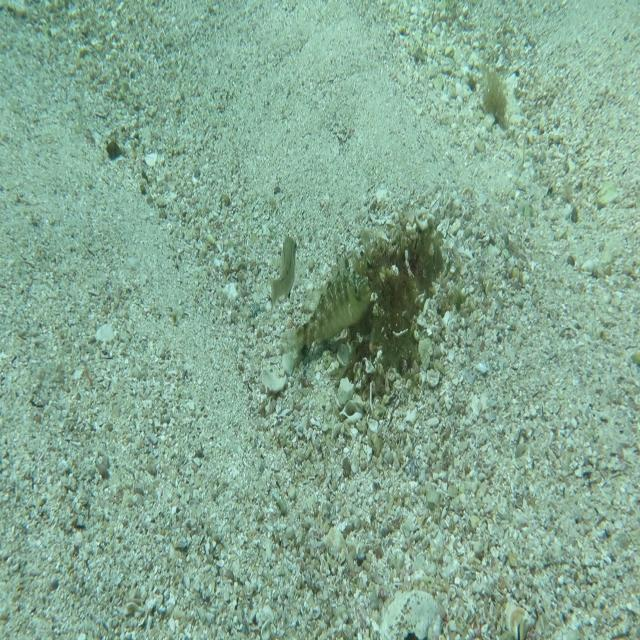LF: (284, 247, 372, 373)
core_nest: (389, 236, 441, 272)
female: (267, 234, 298, 308)
nest: (336, 206, 456, 405)
